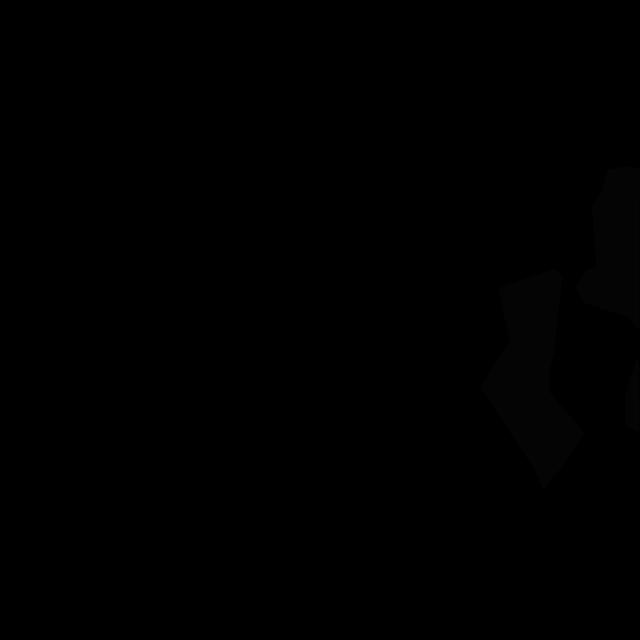soft_plastic: (480, 269, 585, 490), (576, 166, 640, 432)
